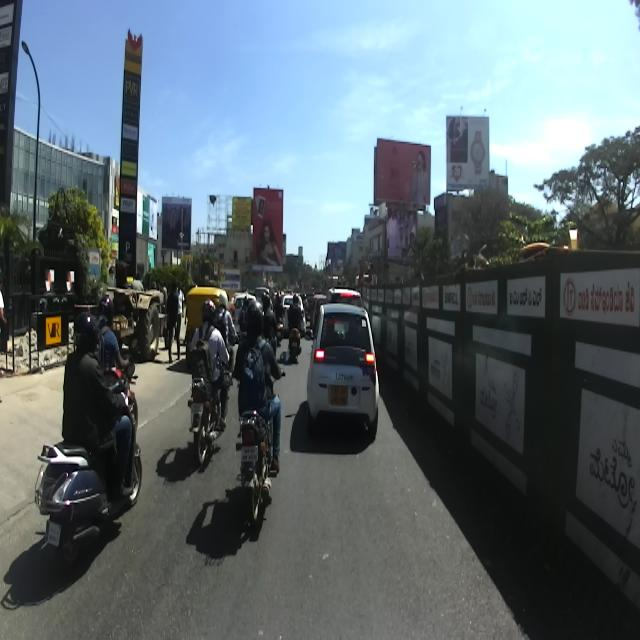barrier ahead at: (390, 258, 637, 597)
car ahead at: (310, 292, 386, 433)
motorcycle ahead at: (36, 440, 110, 562), (236, 406, 276, 531), (188, 372, 226, 466)
